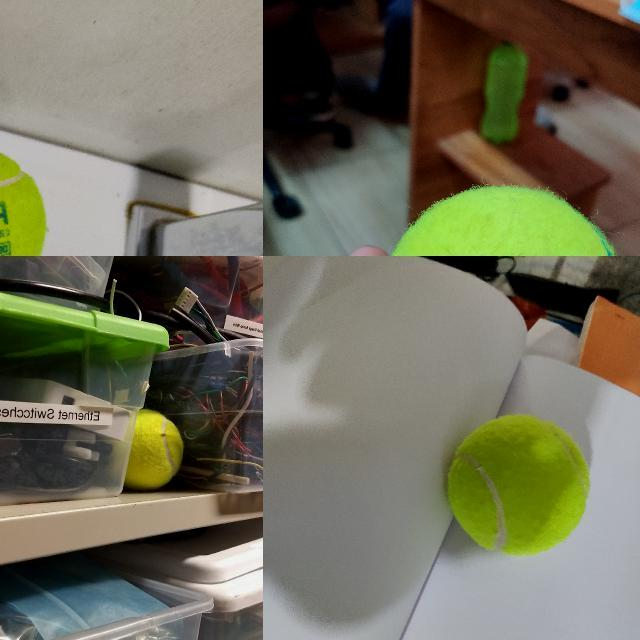Tennis Ball: (446, 414, 591, 559), (379, 187, 633, 255), (1, 146, 50, 255), (141, 409, 185, 491)
